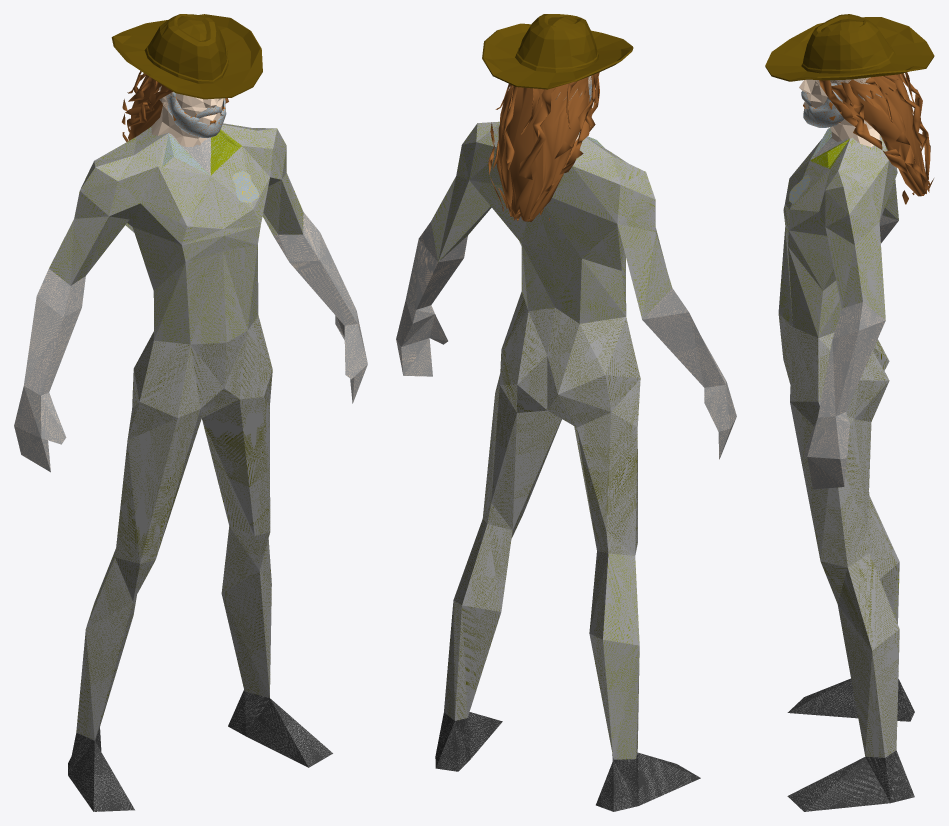
The model's file is park_ranger_1.fbx.
3 views of the same model, side by side, from view 1: azimuth 30°, elevation 25°; view 2: azimuth 150°, elevation 25°; view 3: azimuth 270°, elevation 25° (orthographic).
Visible parts, largest first — view 1: Model; view 2: Model; view 3: Model.
Boxes of the visible parts, x1,y1,x2,y2 form: Model: (14, 14, 367, 811); Model: (396, 14, 736, 811); Model: (765, 14, 934, 811).
Size of the model in its own units: 3.03 by 6.33 by 1.33.
